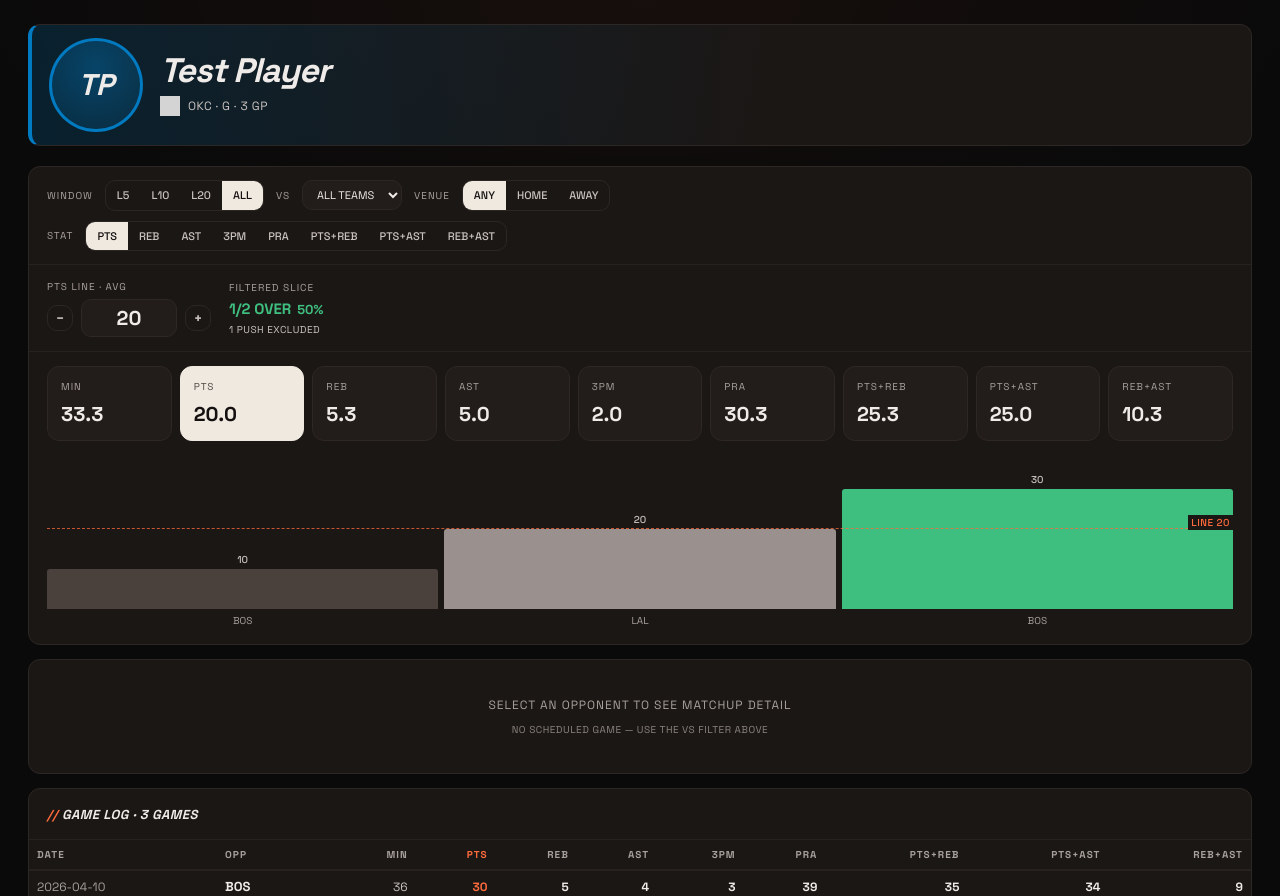
it: PlayerView › narrows the log when an opponent is chosen
Select "BOS" in the dropdown named "Opponent" at (352, 195), box [302,180,402,210]
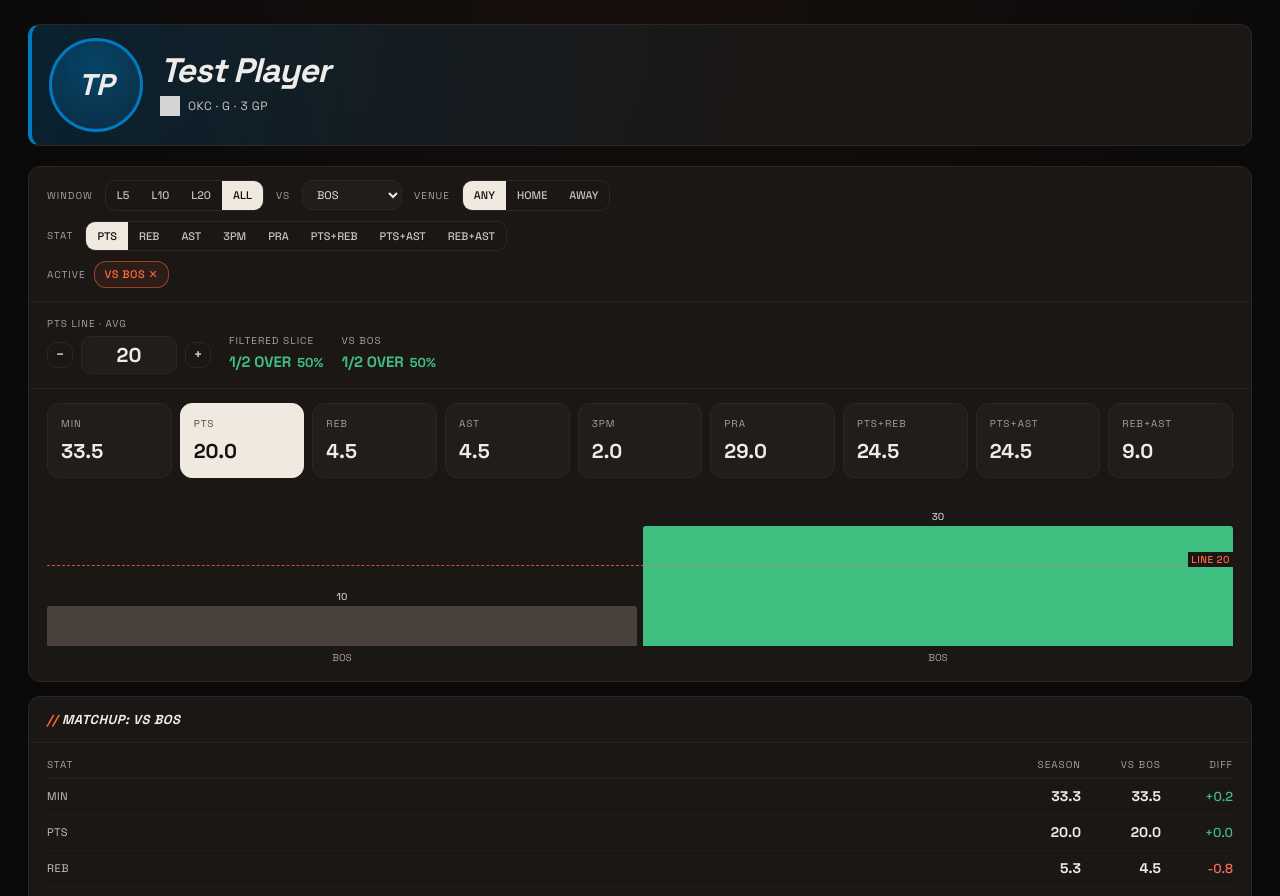
Result: the number of elements with test id "chart-bar" is 2 at [47,606,637,646]; [643,526,1233,646]
